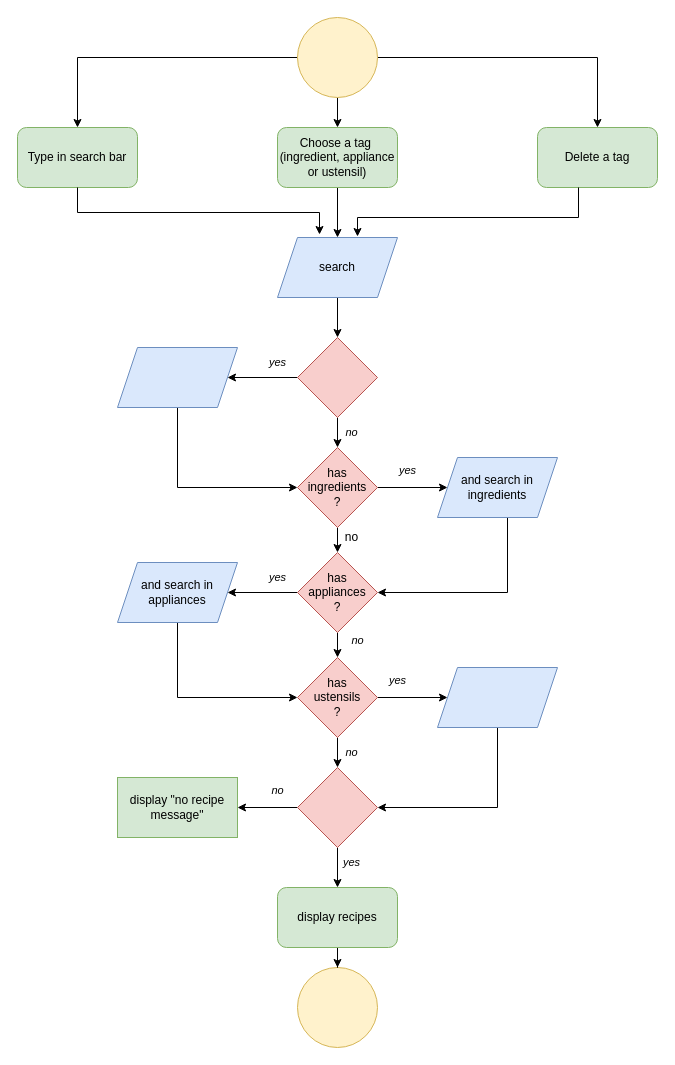
Some shapes in this 675 by 1065 pixel diagram are drawn without their labels. The centre of each missing label's shape, as x and y in pixels:
and search in ustensils: the point at 497,697
END: the point at 337,1007
has keys ?: the point at 337,377
has recipes ?: the point at 337,807
search in title, ing description: the point at 177,377
START: the point at 337,57
